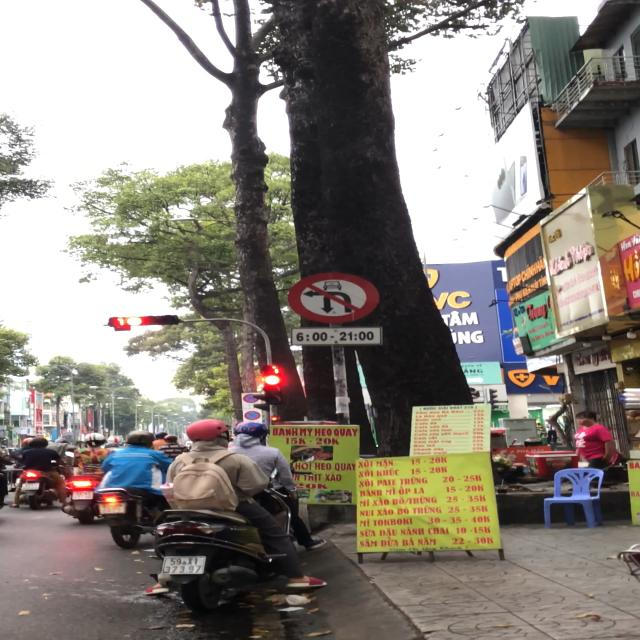Bien bao cam oto re trai va quay dau xe: (282, 270, 383, 328)
